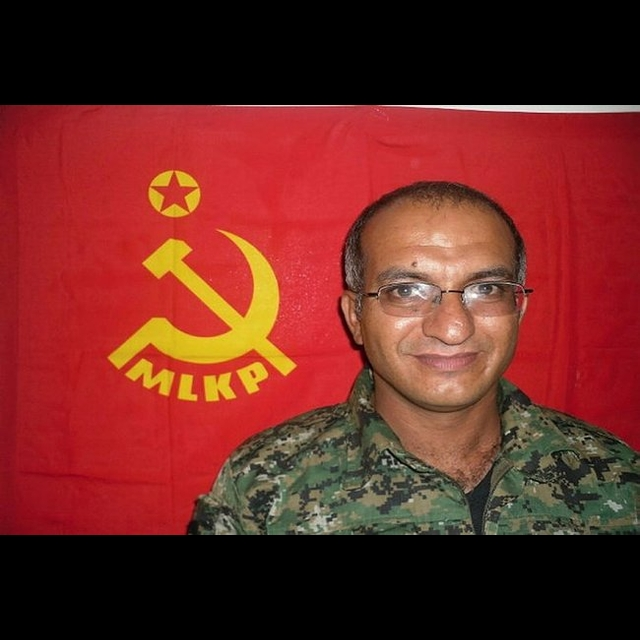MLKP: (96, 159, 303, 412)
